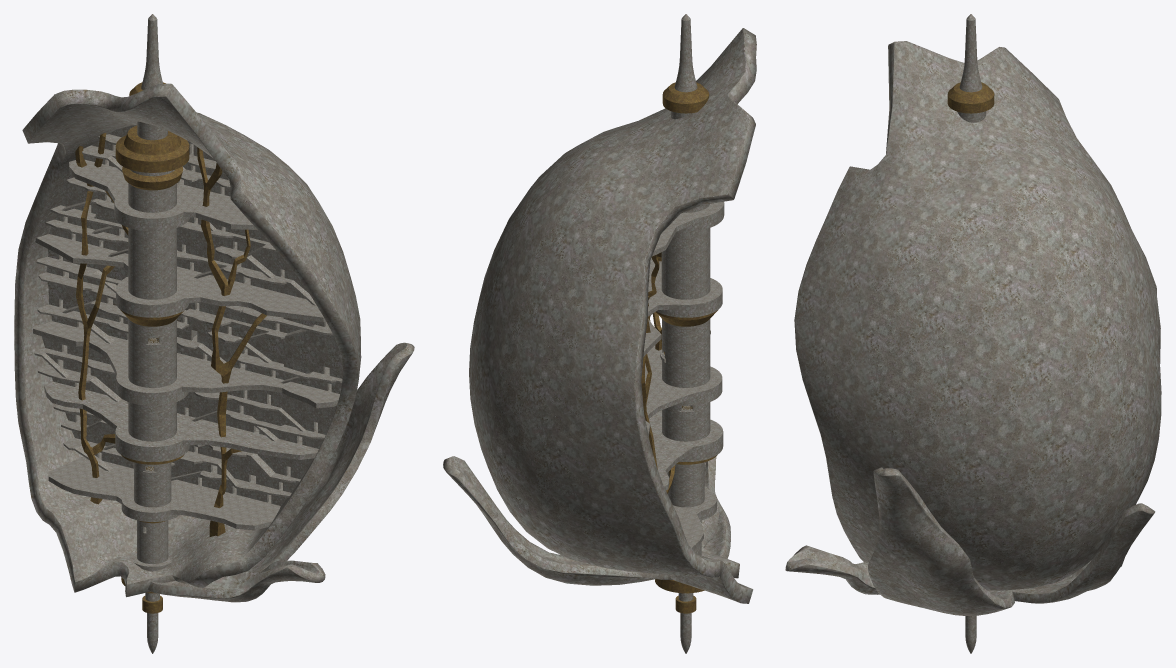
File: mg_12_cage_2.fbx
The picture shows the model from 3 angles, left to right: view 1: azimuth 30°, elevation 25°; view 2: azimuth 150°, elevation 25°; view 3: azimuth 270°, elevation 25°; orthographic projection.
Parts seen in each view (by area): view 1: mg_12_cage_2; view 2: mg_12_cage_2; view 3: mg_12_cage_2.
Boxes of the visible parts, left/top/right/bottom form: mg_12_cage_2: left=14, top=14, right=414, bottom=653; mg_12_cage_2: left=443, top=14, right=756, bottom=653; mg_12_cage_2: left=785, top=14, right=1161, bottom=653.
Bounding box in the file's own units: 18021 × 36013 × 19192.
